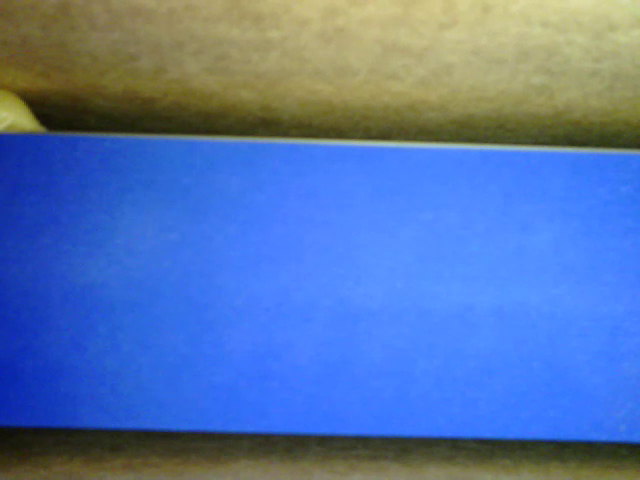elbow: (2, 87, 55, 136)
